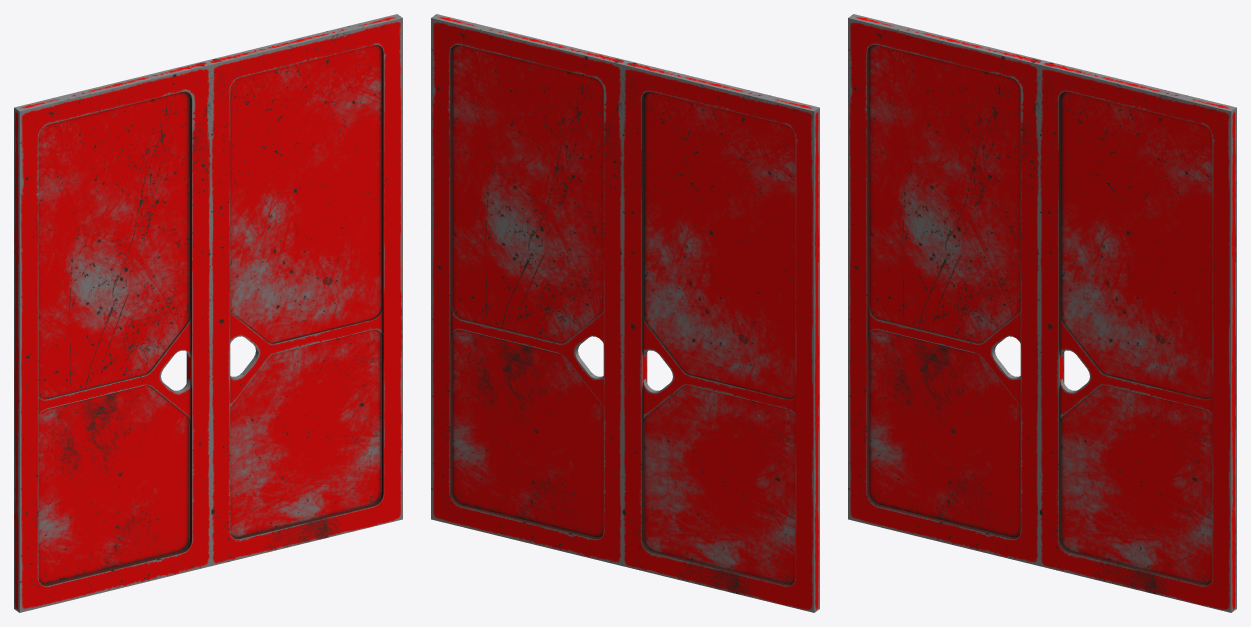
The picture shows the model from 3 angles, left to right: view 1: azimuth 30°, elevation 25°; view 2: azimuth 150°, elevation 25°; view 3: azimuth 330°, elevation 25°; orthographic projection.
Visible parts, largest first — view 1: door, door.001; view 2: door, door.001; view 3: door.001, door.
Boxes of the visible parts, left/top/right/bottom form: door: left=14, top=61, right=211, bottom=612; door.001: left=206, top=14, right=402, bottom=565; door: left=622, top=61, right=819, bottom=612; door.001: left=431, top=14, right=627, bottom=565; door.001: left=1039, top=61, right=1236, bottom=612; door: left=848, top=14, right=1044, bottom=565.
Size of the model in its own units: 2 by 2.5 by 0.05.
3 materials, 3 textured.
